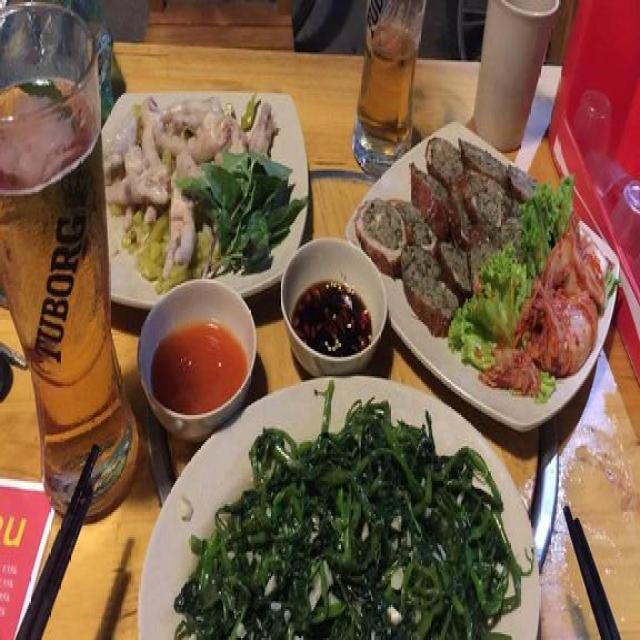bia: (0, 13, 138, 510), (364, 9, 414, 152)
chan ga sa tac: (118, 92, 288, 276)
doi nuong: (360, 127, 628, 390)
rau muong xao toi: (163, 355, 529, 640)
